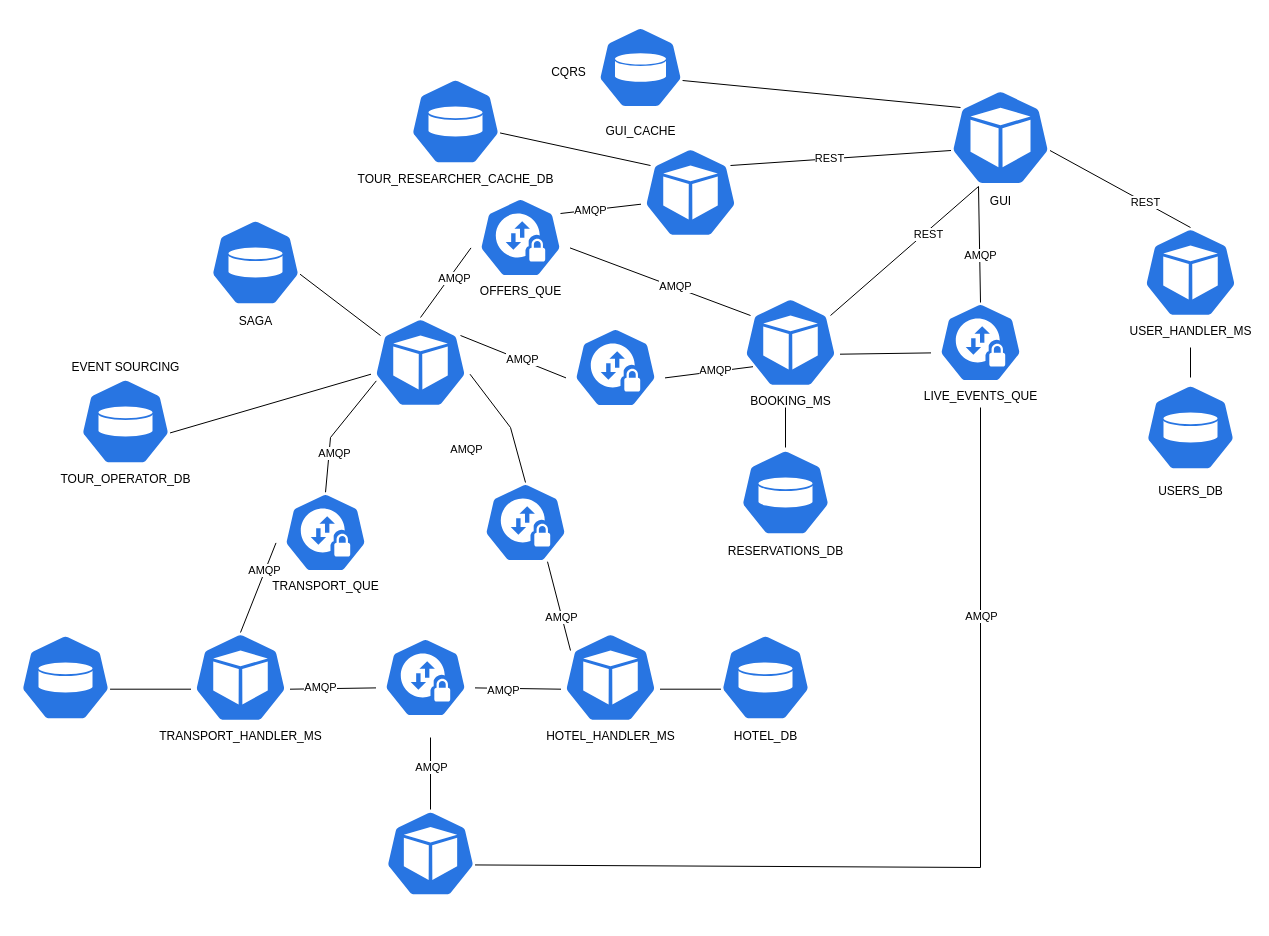
The diagram is 1269 pixels wide and 936 high, and some of its shapes have lost their labels. The centre of each missing label's shape, as x and y in pixels:
"HOTEL_QUE" goes at (x=525, y=522).
"RESERVATIONS_QUE" goes at (x=615, y=367).
"TOUR_DATA_GENERATOR" goes at (x=430, y=853).
"TOUR_DATA_QUE" goes at (x=425, y=677).
"TOUR_OPERATOR_MS" goes at (x=420, y=362).
"TOUR_RESEARCHER_MS" goes at (x=690, y=192).
"TRANSPORT_DB" goes at (x=65, y=677).
